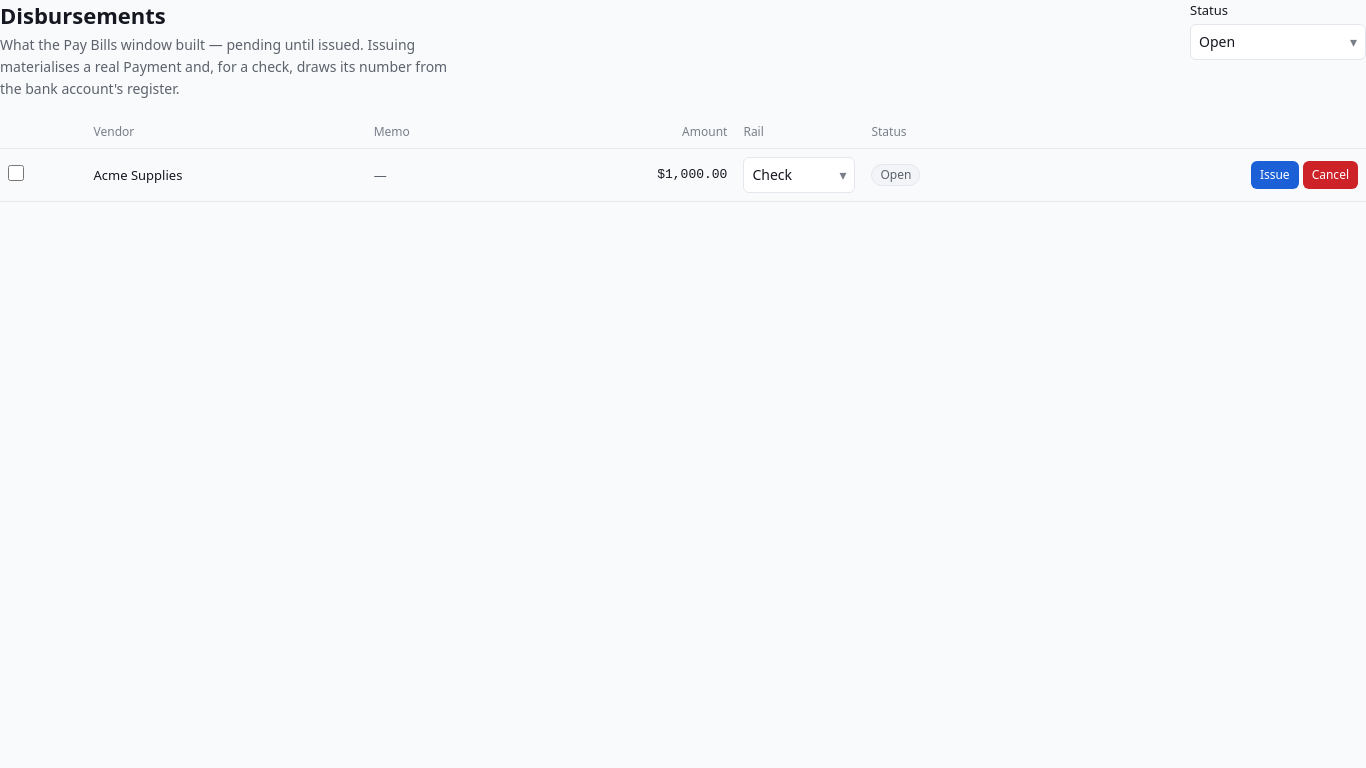
DisbursementsScreen › shows the check number an issue succeeds with
Click the button "Issue" at (1275,175), box x1=1251 y1=161 x2=1299 y2=189
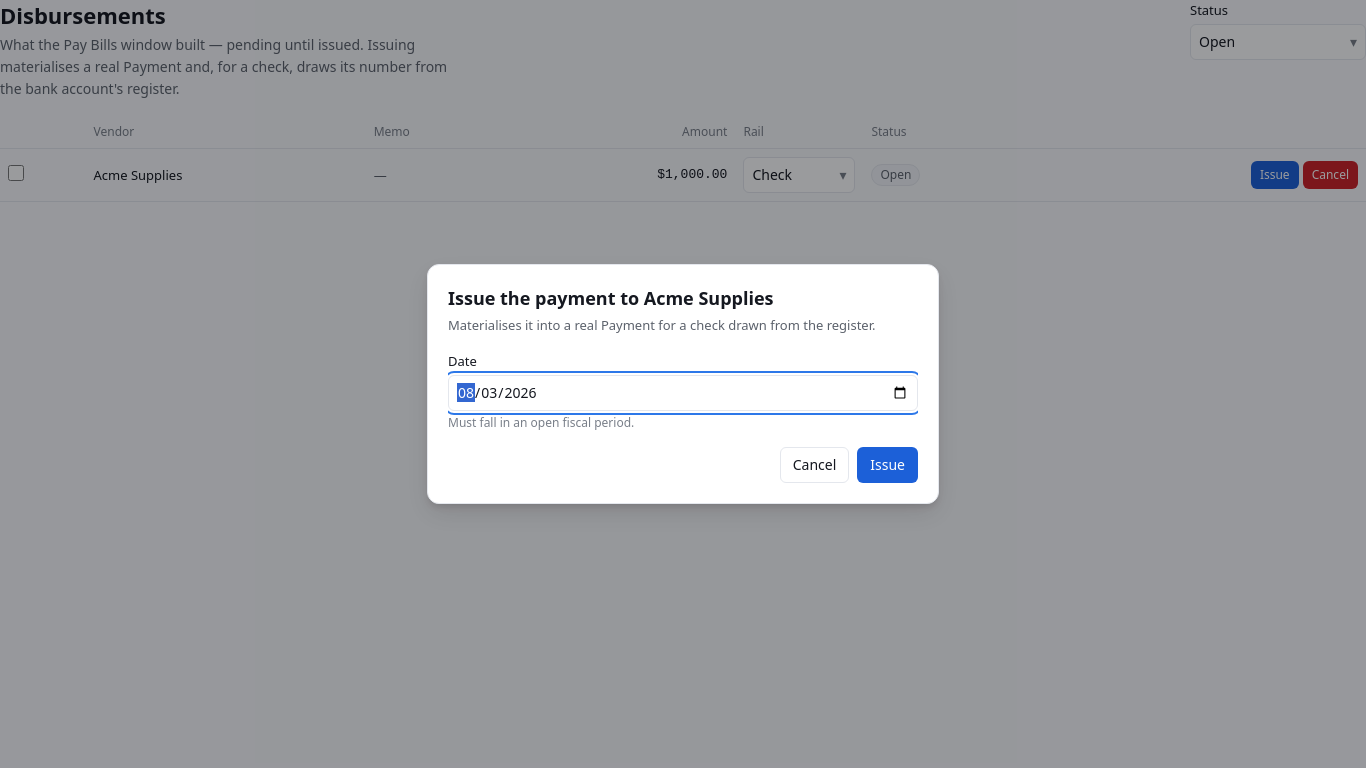
Click the button "Issue" at (888,465), box x1=857 y1=447 x2=918 y2=483
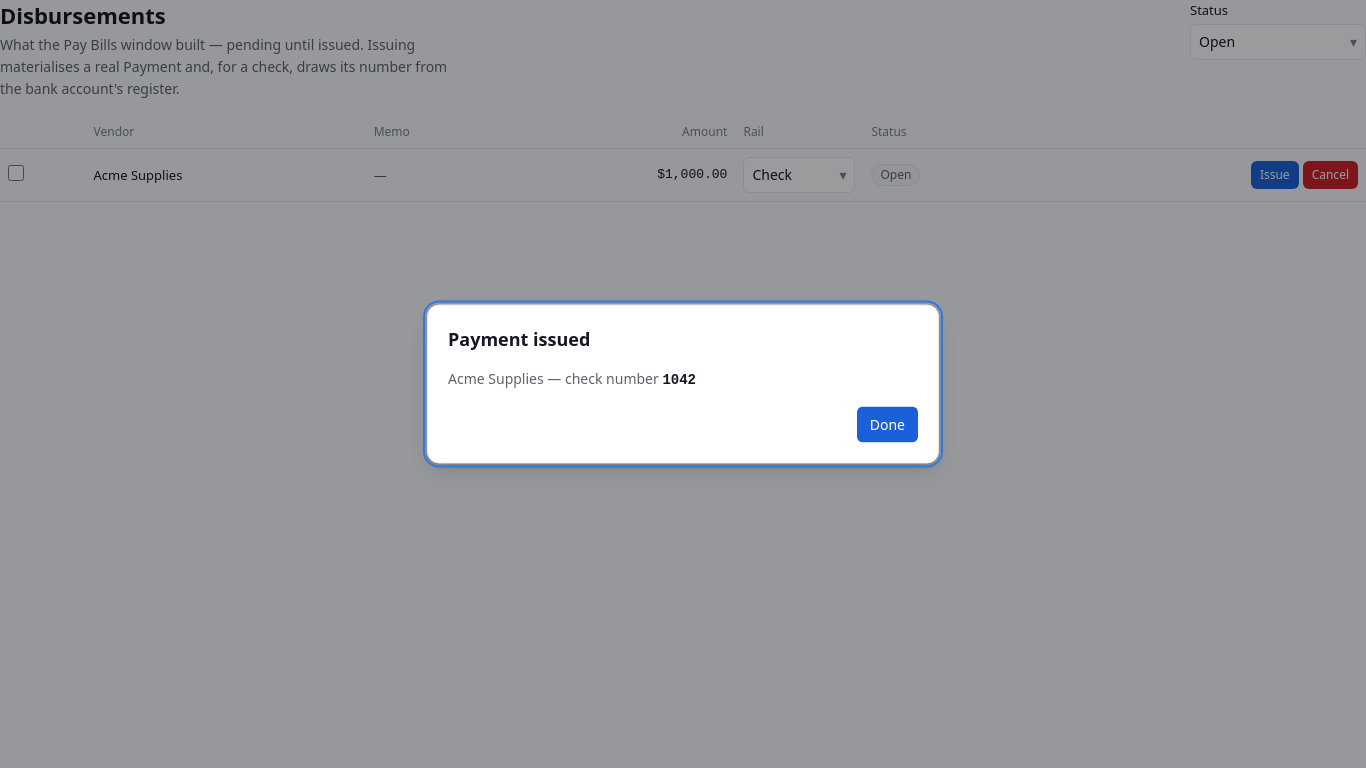
expect the text "1042" is shown: met, box x1=662 y1=372 x2=696 y2=388
